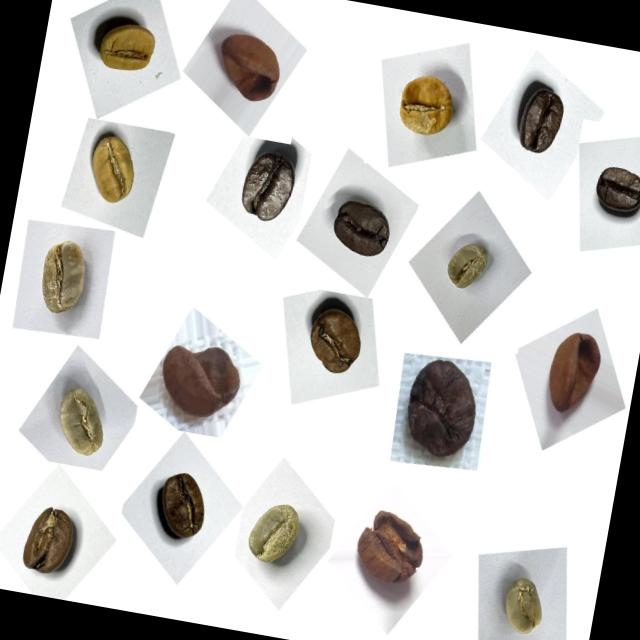bad: (384, 340, 498, 474), (146, 322, 256, 442), (340, 494, 440, 606), (528, 318, 618, 434), (203, 17, 296, 120)
dark: (221, 138, 310, 243), (499, 70, 584, 173), (320, 182, 408, 276), (580, 148, 640, 235)
green: (16, 223, 109, 334), (36, 374, 125, 474), (232, 488, 318, 586), (484, 562, 560, 640), (434, 230, 501, 306)
light: (377, 56, 468, 158), (79, 0, 170, 93), (70, 124, 154, 222)
medium: (290, 293, 380, 394), (7, 492, 94, 593), (142, 462, 224, 557)
